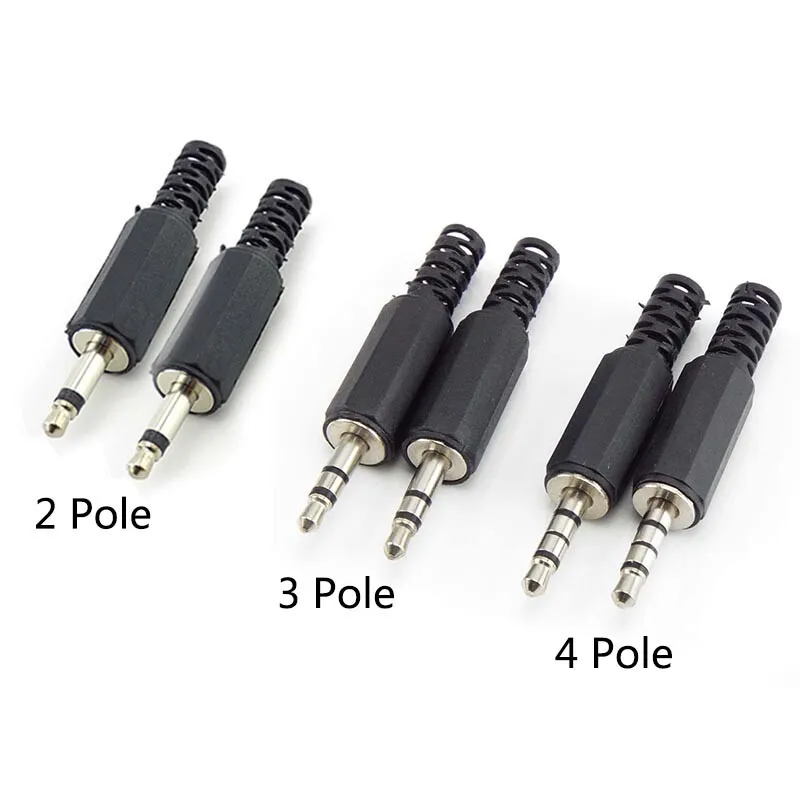3.5mm_audio: (522, 471, 610, 597), (299, 415, 389, 537), (612, 481, 697, 609), (42, 324, 132, 440), (385, 437, 469, 560), (127, 366, 215, 482)
